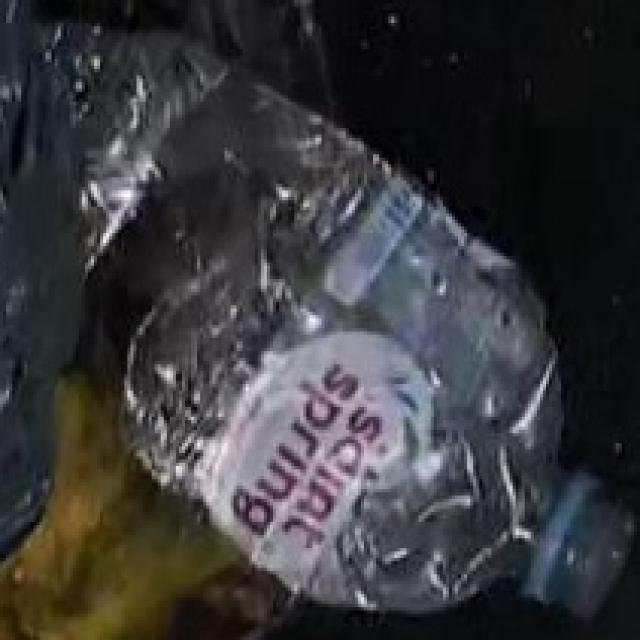plasticbottle: (0, 23, 610, 640)
